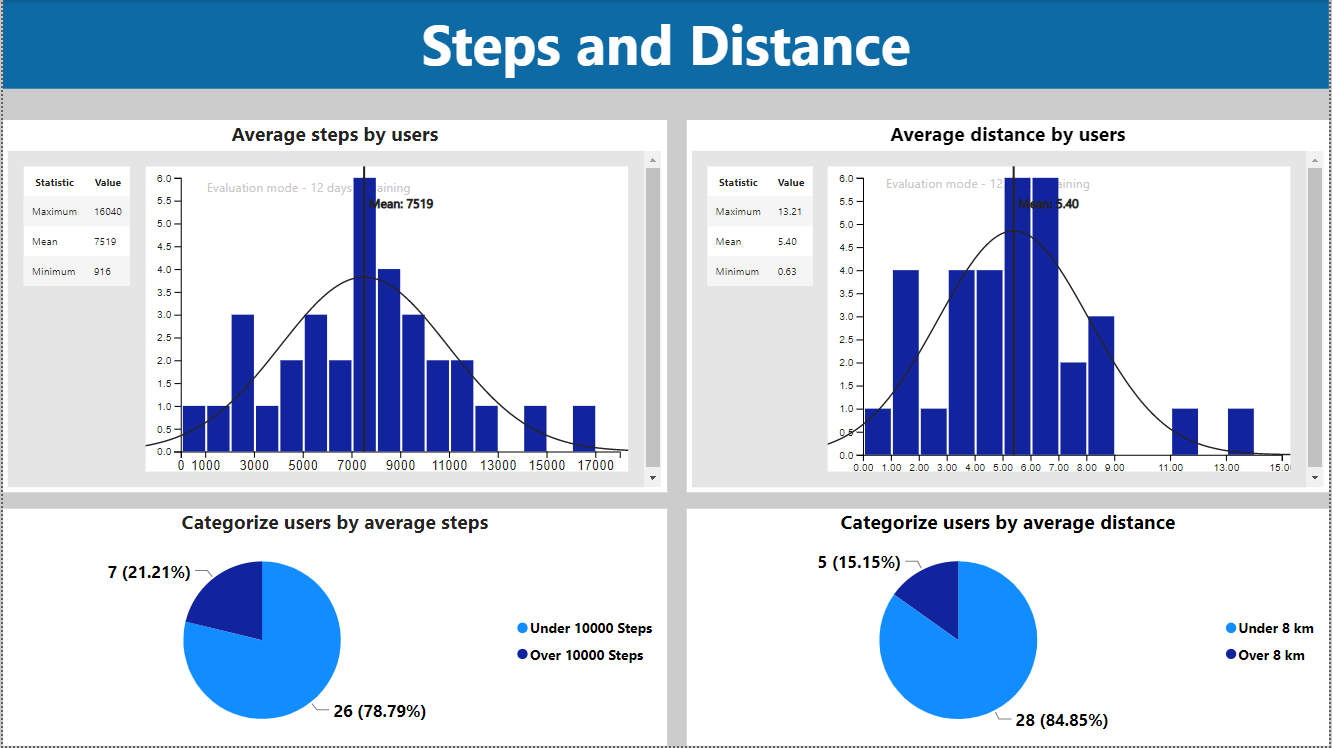

The dashboard page shown, as its layout file describes it:
{"tool":"powerbi","page":{"name":"Steps and Distance","canvas":[1280,720],"ordinal":2},"visuals":[{"type":"histogram42E8DF98F1244DB799B2A8A65DBCB226","title":"Average steps by users","fields":{"datavalues":["Avg(daily_activity.TotalSteps)"],"axis":["daily_activity.Id"]},"box":[0,115.8,640.4,359.4],"z":0},{"type":"pieChart","title":"Categorize users by average steps","fields":{"Category":["GroupById.HighOrLowStep"],"Y":["CountNonNull(GroupById.daily_activity_Id)"]},"box":[0,490.9,640.4,229.1],"z":1000},{"type":"histogram42E8DF98F1244DB799B2A8A65DBCB226","title":"Average distance by users","fields":{"datavalues":["Avg(daily_activity.TotalDistance)"],"axis":["daily_activity.Id"]},"box":[659.7,115.8,619.9,359.4],"z":2000},{"type":"pieChart","title":"Categorize users by average distance","fields":{"Category":["GroupById.HighOrLowDistance"],"Y":["CountNonNull(GroupById.daily_activity_Id)"]},"box":[659.7,490.9,619.9,229.1],"z":3000},{"type":"textbox","box":[0,0,1279.6,85.6],"z":4000}]}

Visuals, with their boxes in screenshot pixels (x1, y1, x2, y2), scaled from the page's 1280x720 canvas onto the 1332x748 screenshot:
"Average steps by users" histogram42E8DF98F1244DB799B2A8A65DBCB226: detection(0, 120, 666, 494)
"Categorize users by average steps" pieChart: detection(0, 510, 666, 747)
"Average distance by users" histogram42E8DF98F1244DB799B2A8A65DBCB226: detection(687, 120, 1331, 494)
"Categorize users by average distance" pieChart: detection(687, 510, 1331, 747)
textbox: detection(0, 0, 1331, 89)
